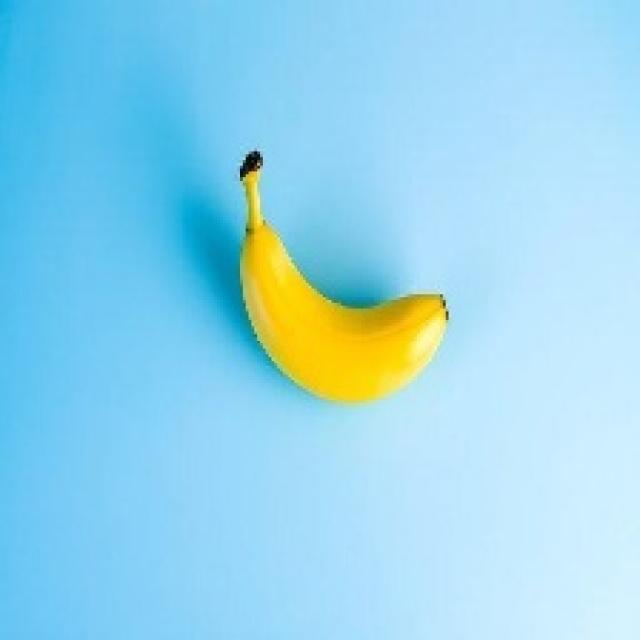Banana: (234, 148, 449, 403)
